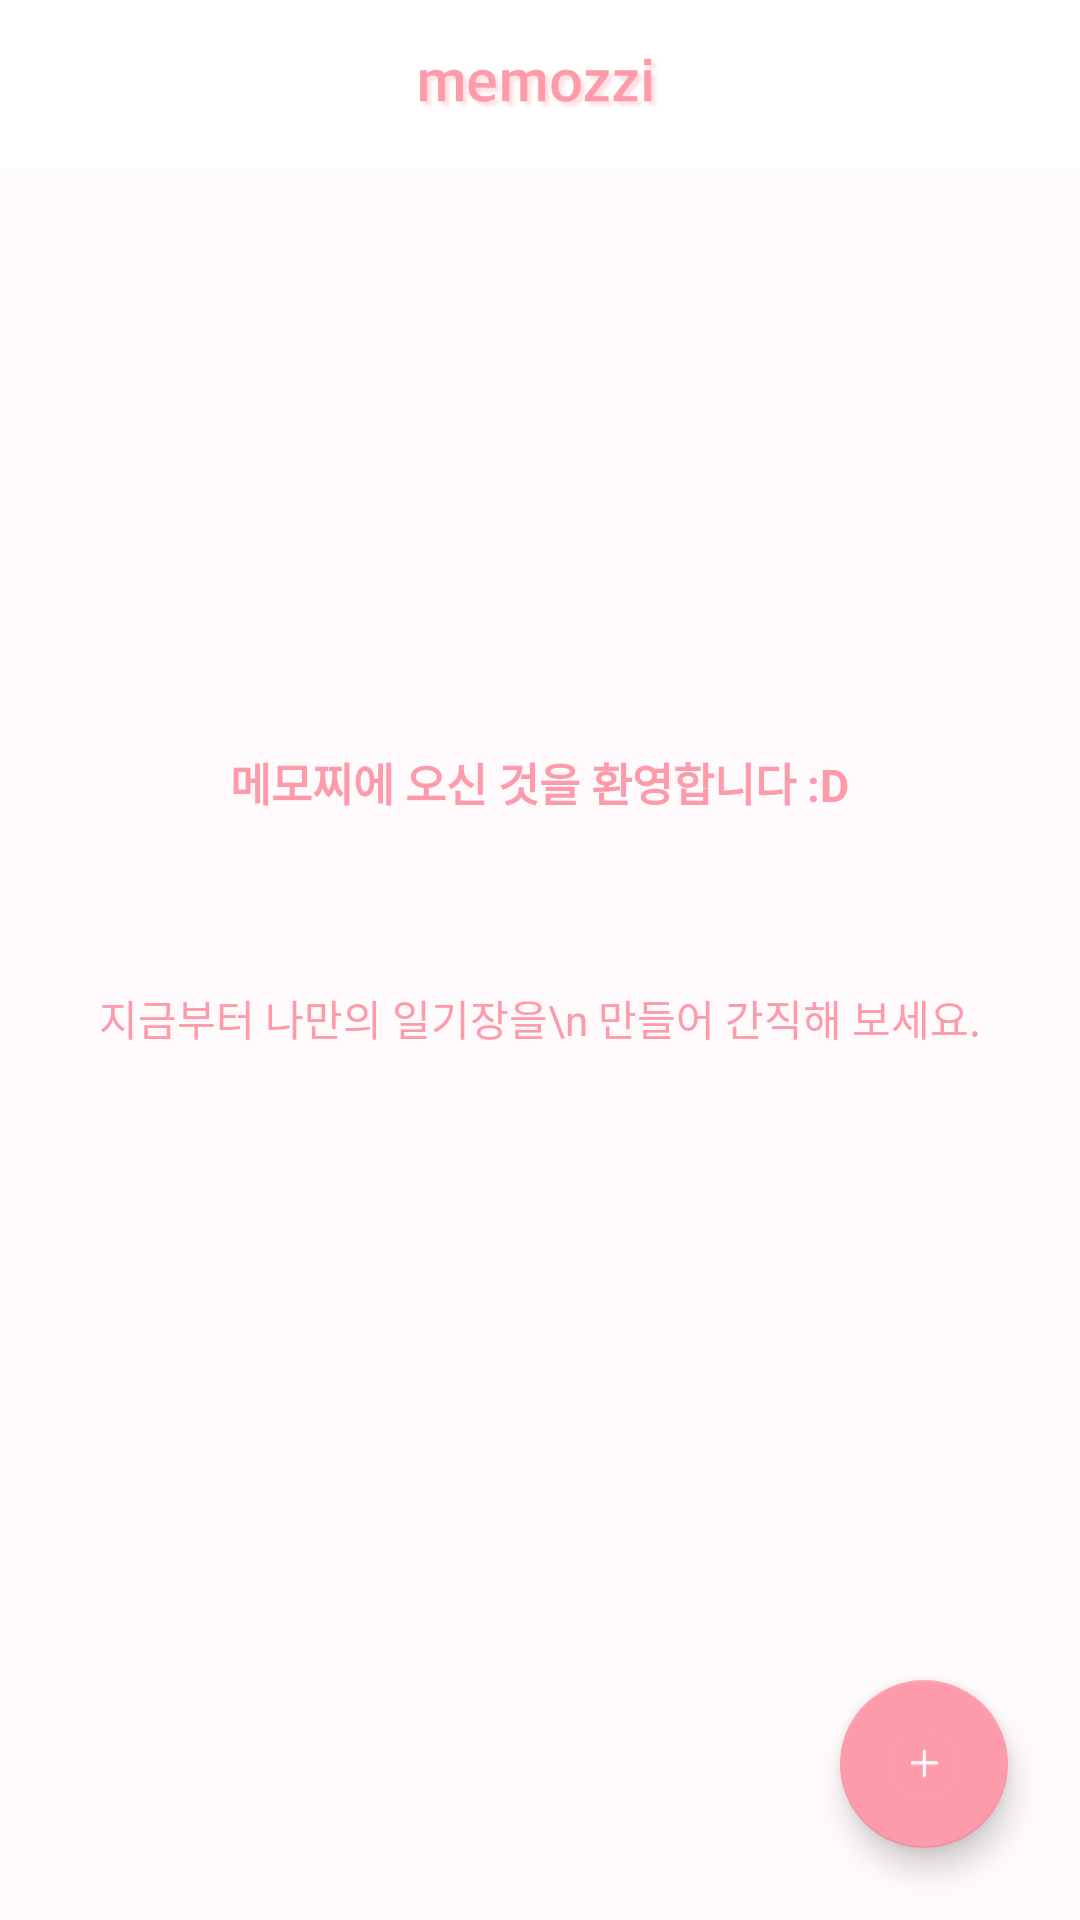

Where icons sit on this 1080w x 1920h app screen, as bbox=[x1, y1, x2, y2]:
plus: bbox=[840, 1680, 1008, 1848]
